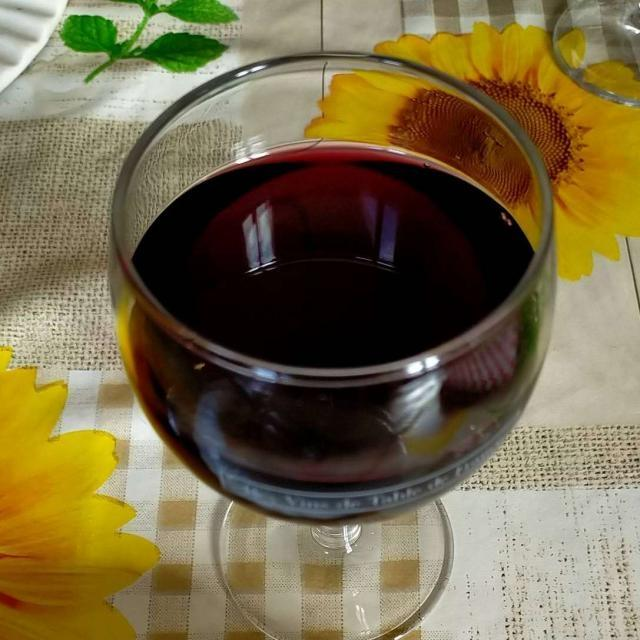wine: (126, 136, 542, 506)
